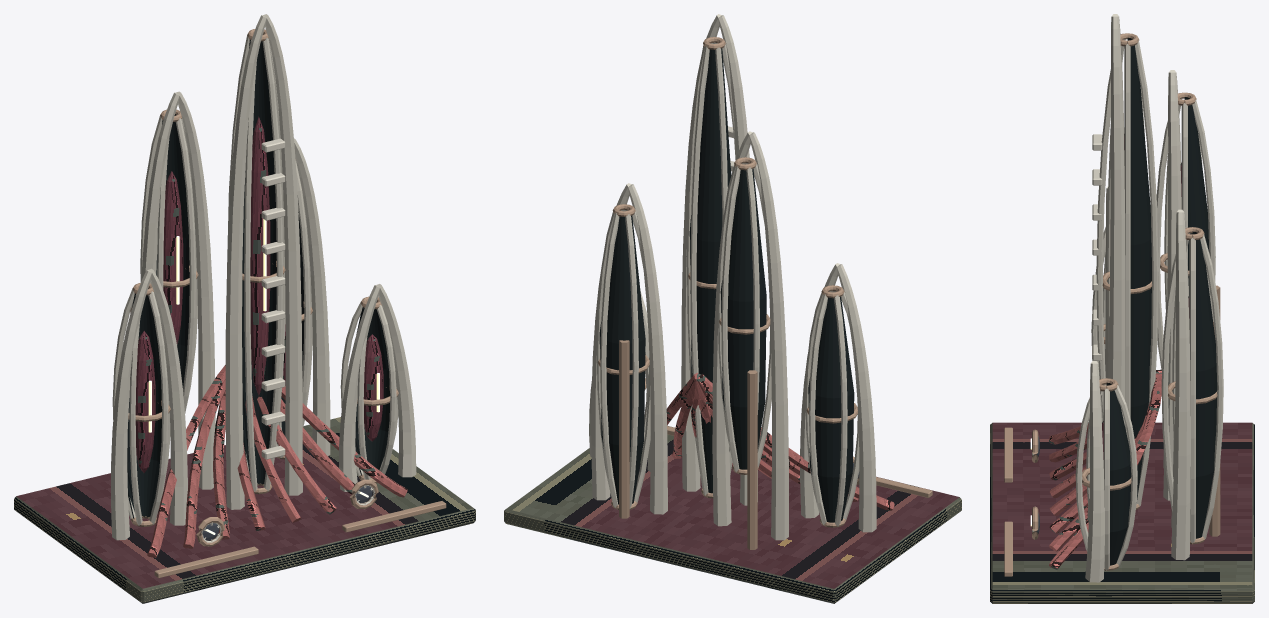
Rendered from nursery_tower_cluster.glb.
3 renders of one model, left to right at view 1: azimuth 30°, elevation 25°; view 2: azimuth 150°, elevation 25°; view 3: azimuth 270°, elevation 25°, orthographic. The views are drawn at different scales.
Visible parts, largest first — view 1: nursery_tower_cluster_warm, nursery_tower_cluster_petrol, nursery_tower_cluster_bruised, nursery_tower_cluster_suture, nursery_tower_cluster_worn, nursery_tower_cluster_sick; view 2: nursery_tower_cluster_petrol, nursery_tower_cluster_warm, nursery_tower_cluster_worn, nursery_tower_cluster_suture; view 3: nursery_tower_cluster_petrol, nursery_tower_cluster_warm, nursery_tower_cluster_suture, nursery_tower_cluster_worn.
Boxes of the visible parts, bbox=[...] form: nursery_tower_cluster_warm: bbox=[111, 14, 416, 542]; nursery_tower_cluster_petrol: bbox=[14, 34, 475, 603]; nursery_tower_cluster_bruised: bbox=[135, 116, 383, 473]; nursery_tower_cluster_suture: bbox=[147, 365, 407, 557]; nursery_tower_cluster_worn: bbox=[128, 29, 446, 578]; nursery_tower_cluster_sick: bbox=[148, 219, 379, 534]; nursery_tower_cluster_petrol: bbox=[504, 48, 961, 603]; nursery_tower_cluster_warm: bbox=[589, 14, 876, 540]; nursery_tower_cluster_worn: bbox=[597, 37, 932, 549]; nursery_tower_cluster_suture: bbox=[666, 373, 894, 510]; nursery_tower_cluster_petrol: bbox=[990, 38, 1254, 603]; nursery_tower_cluster_warm: bbox=[1032, 14, 1223, 582]; nursery_tower_cluster_suture: bbox=[1049, 369, 1161, 569]; nursery_tower_cluster_worn: bbox=[1004, 33, 1220, 576].
Size of the model in its own units: 5.55 by 7.92 by 3.7.
7 materials, 3 textured.
